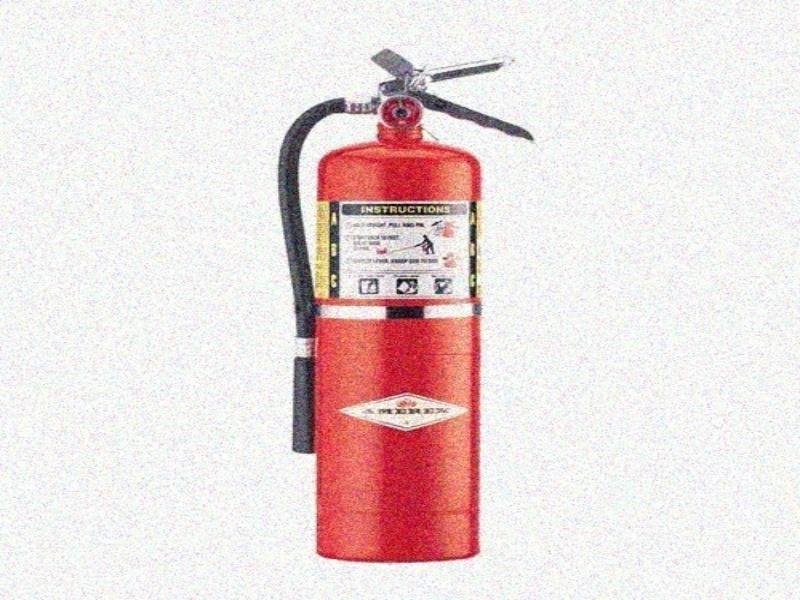fire_extinguisher: (260, 28, 539, 567)
